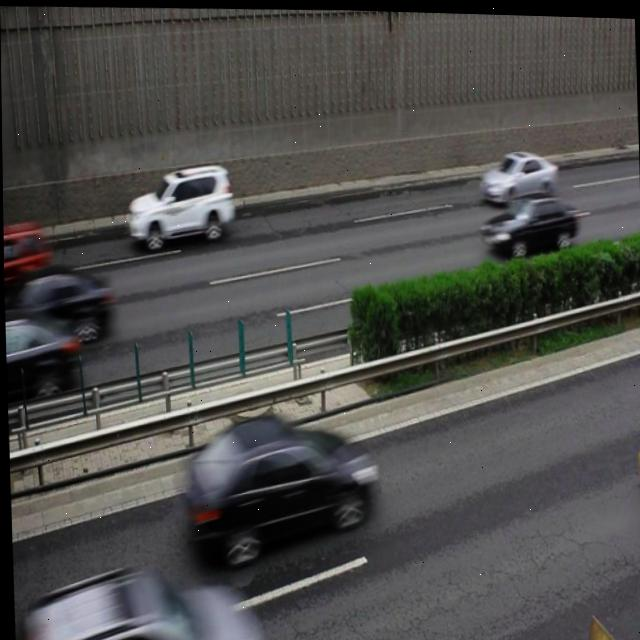car: (176, 408, 373, 564), (10, 555, 265, 640), (125, 162, 233, 253), (3, 263, 109, 346), (4, 313, 78, 411), (477, 190, 578, 258), (476, 145, 555, 205), (3, 221, 50, 295)
